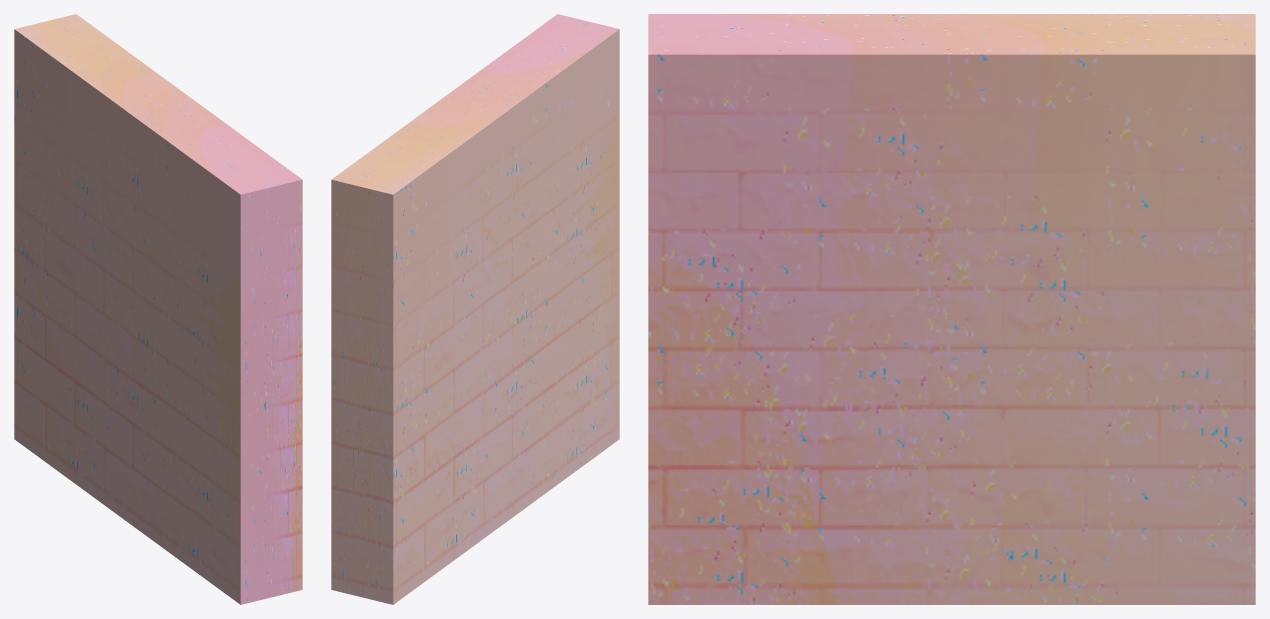
File: icduvar5.fbx
The picture shows the model from 3 angles, left to right: view 1: azimuth 30°, elevation 25°; view 2: azimuth 150°, elevation 25°; view 3: azimuth 270°, elevation 25°; orthographic projection. The views are drawn at different scales.
Visible parts, largest first — view 1: Cube.005; view 2: Cube.005; view 3: Cube.005.
Part boxes in pixels (x1,y1,x2,y2): Cube.005: (14, 14, 302, 604); Cube.005: (331, 14, 619, 604); Cube.005: (648, 14, 1255, 604).
Size of the model in its own units: 63.17 by 400 by 400.
1 material, 1 textured.
